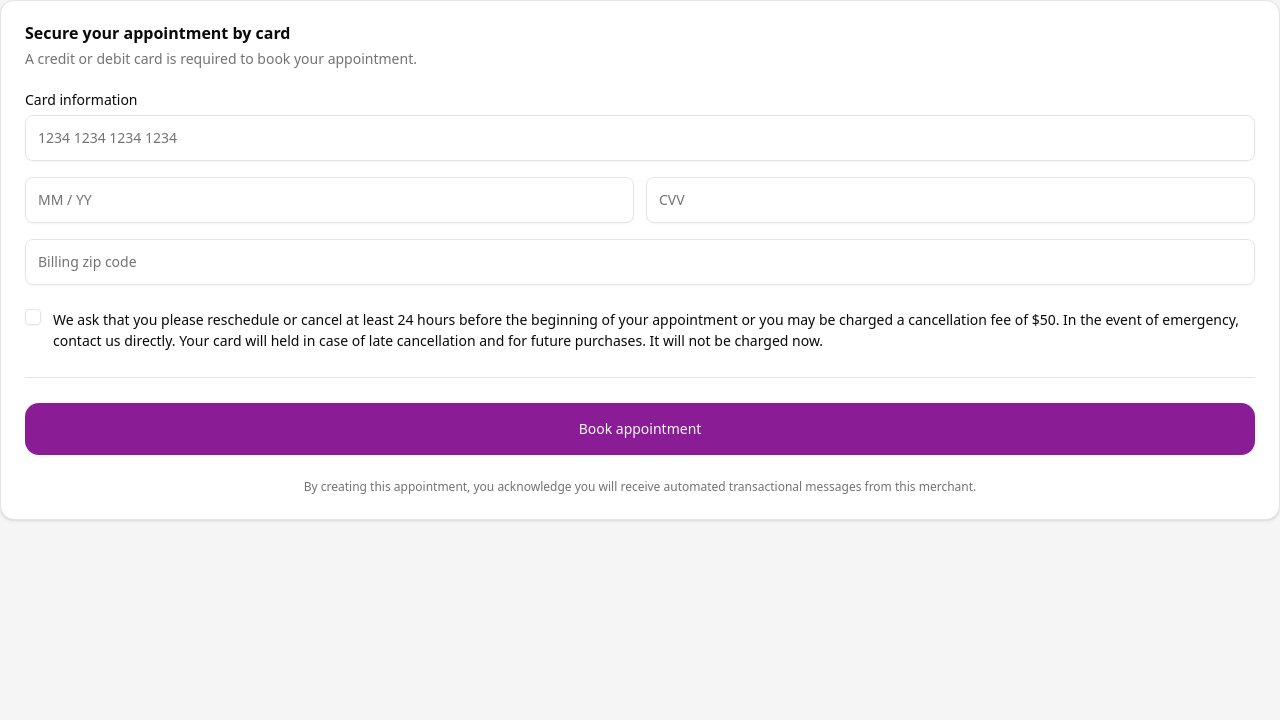
PaymentDetailsForm › rejects letters in card number field
Type "abcd1234efgh5678" into the field with placeholder "1234 1234 1234 1234". click: (640, 138)
box: [25, 115, 1255, 161]
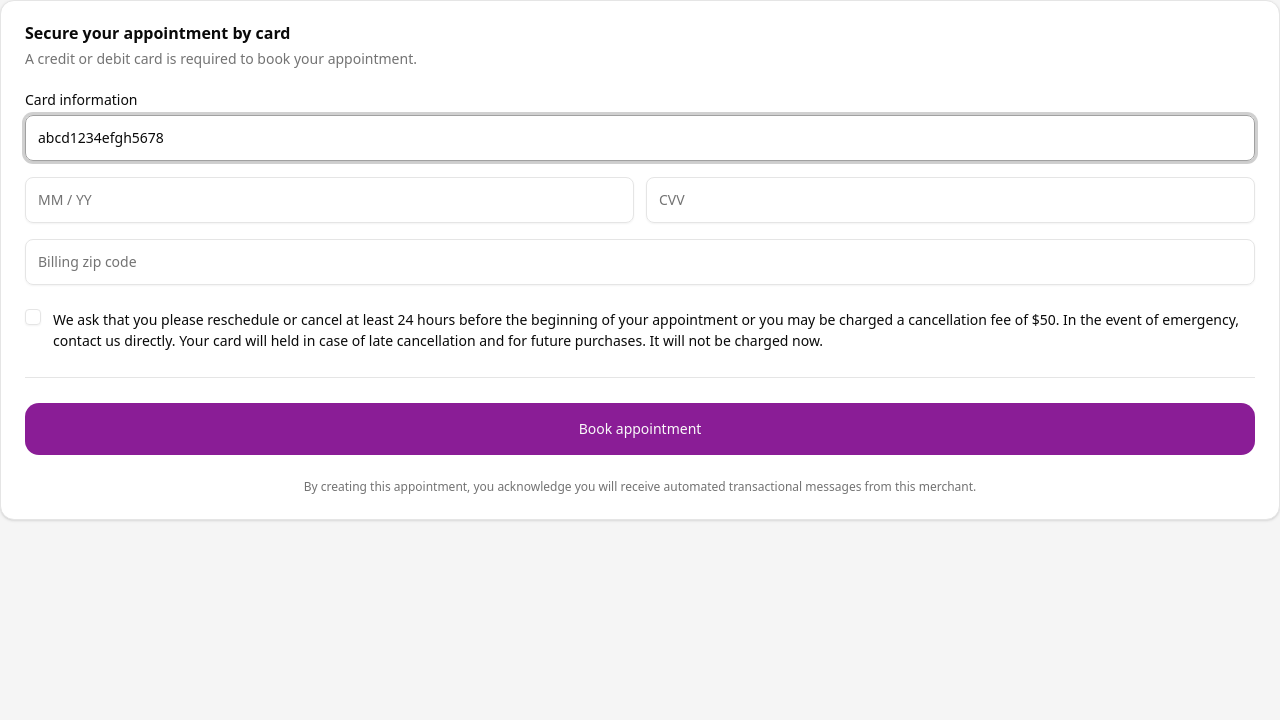
Click the button "Book appointment". click: (640, 429)
box: [25, 403, 1255, 455]
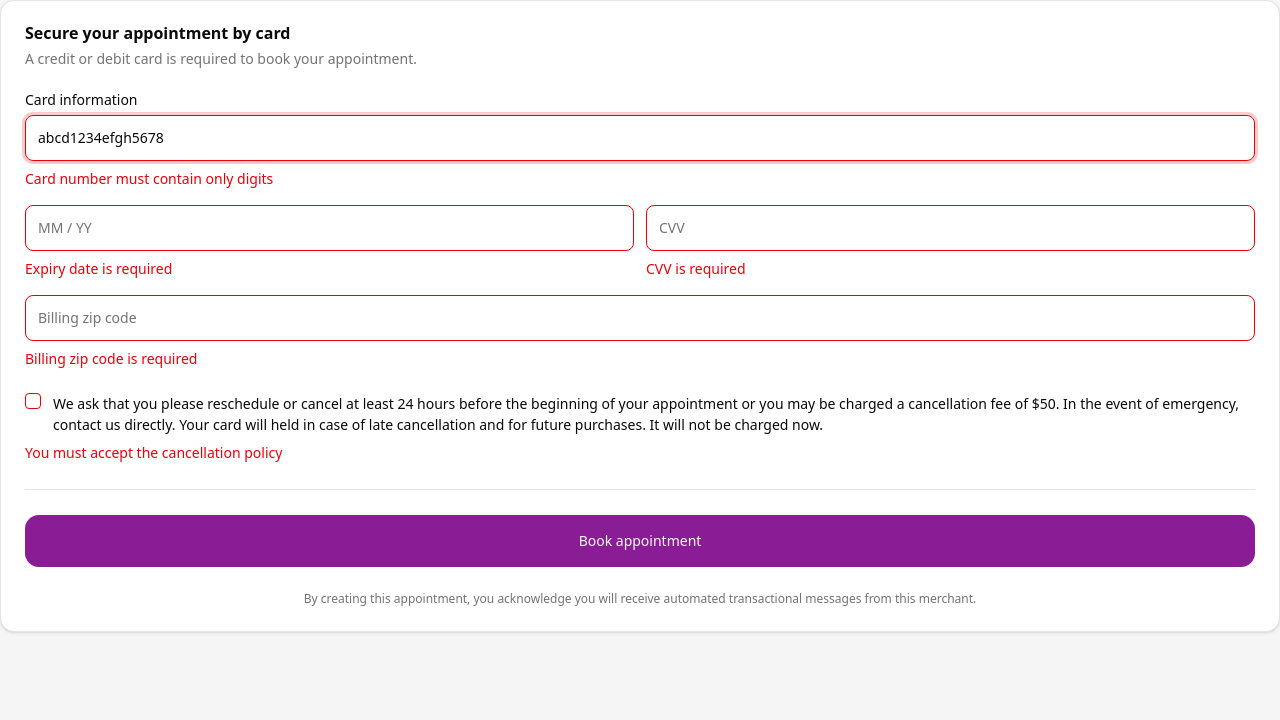
Check: the text "Card number must contain only digits" is shown, box [25, 169, 273, 188]
